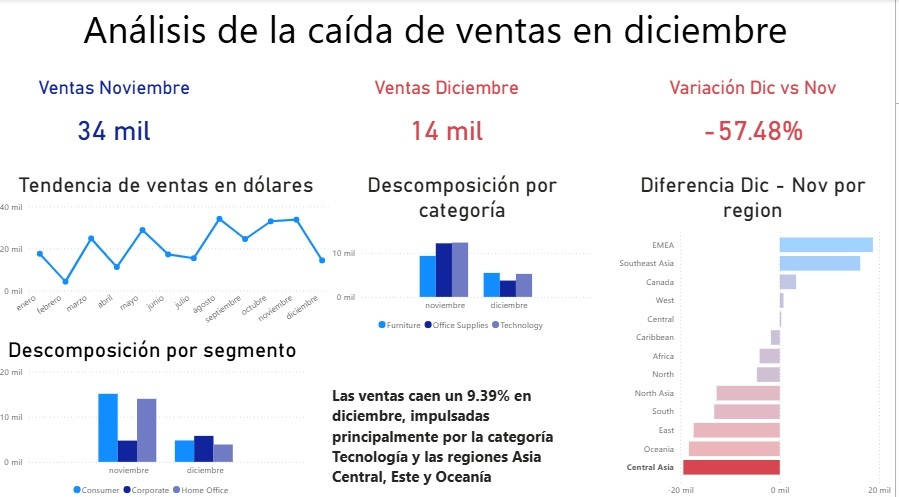

The page's visual inventory and layout, read from the dashboard file:
{"tool":"powerbi","page":{"name":"Página 1","canvas":[1280,720],"ordinal":0},"visuals":[{"type":"card","title":"Ventas Diciembre","fields":{"Values":["datos 2014.Ventas Dic"]},"box":[491.2,110.3,300.8,115.7],"z":0},{"type":"textbox","box":[17.8,0,1215.6,99.7],"z":1000},{"type":"lineChart","title":"Tendencia de ventas en dólares","fields":{"Category":["datos 2014.order_date.Variación.Jerarquía de fechas.Mes"],"Y":["Sum(datos 2014.sales)"]},"box":[0,247.4,484.1,234.9],"z":2000},{"type":"clusteredColumnChart","title":"Descomposición por categoría","fields":{"Category":["datos 2014.order_date.Variación.Jerarquía de fechas.Mes"],"Y":["Sum(datos 2014.sales)"],"Series":["datos 2014.category"]},"box":[473.4,247.4,380.9,234.9],"z":3000},{"type":"clusteredColumnChart","title":"Descomposición por segmento","fields":{"Category":["datos 2014.order_date.Variación.Jerarquía de fechas.Mes"],"Y":["Sum(datos 2014.sales)"],"Series":["datos 2014.segment"]},"box":[0,482.3,444.9,234.9],"z":4000},{"type":"card","title":"Variación Dic vs Nov","fields":{"Values":["datos 2014.Variación Dic vs Nov"]},"box":[875.7,110.3,404,115.7],"z":5000},{"type":"card","title":"Ventas Noviembre","fields":{"Values":["datos 2014.Ventas Nov"]},"box":[17.8,110.3,300.8,115.7],"z":6000},{"type":"textbox","box":[473.4,544.6,380.9,172.6],"z":7000},{"type":"clusteredBarChart","title":"Diferencia Dic - Nov por region","fields":{"Y":["datos 2014.Diferencia Dic vs Nov"],"Category":["datos 2014.region"]},"box":[875.7,247.4,404,469.9],"z":8000}]}

Visuals, with their boxes in screenshot pixels (x1, y1, x2, y2), scaled from the page's 1280x720 canvas onto the 899x497 screenshot:
"Ventas Diciembre" card: (345, 76, 556, 156)
textbox: (13, 0, 866, 69)
"Tendencia de ventas en dólares" lineChart: (0, 171, 340, 333)
"Descomposición por categoría" clusteredColumnChart: (332, 171, 600, 333)
"Descomposición por segmento" clusteredColumnChart: (0, 333, 312, 495)
"Variación Dic vs Nov" card: (615, 76, 898, 156)
"Ventas Noviembre" card: (13, 76, 224, 156)
textbox: (332, 376, 600, 495)
"Diferencia Dic - Nov por region" clusteredBarChart: (615, 171, 898, 495)
